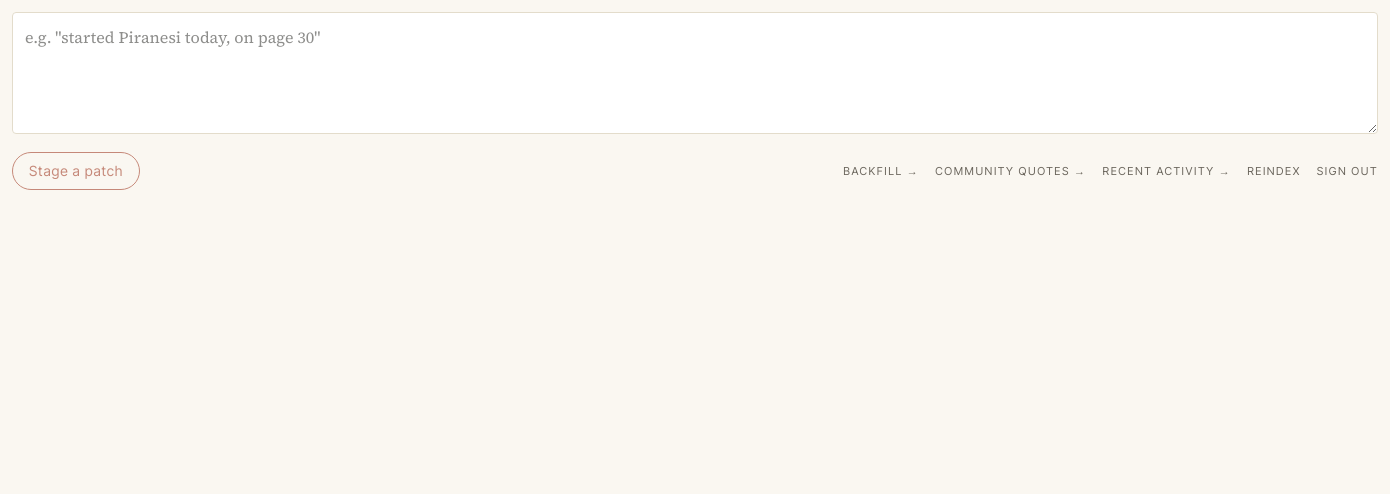
AdminConsole — 5-star unreviewed prompt › does not render the prompt when the pool returns no candidate
In the text box with placeholder "e.g. \"started Piranesi today, on page 30\"": {"x": 695, "y": 73} [12,12,1378,134], type "rate Subject Book 4"
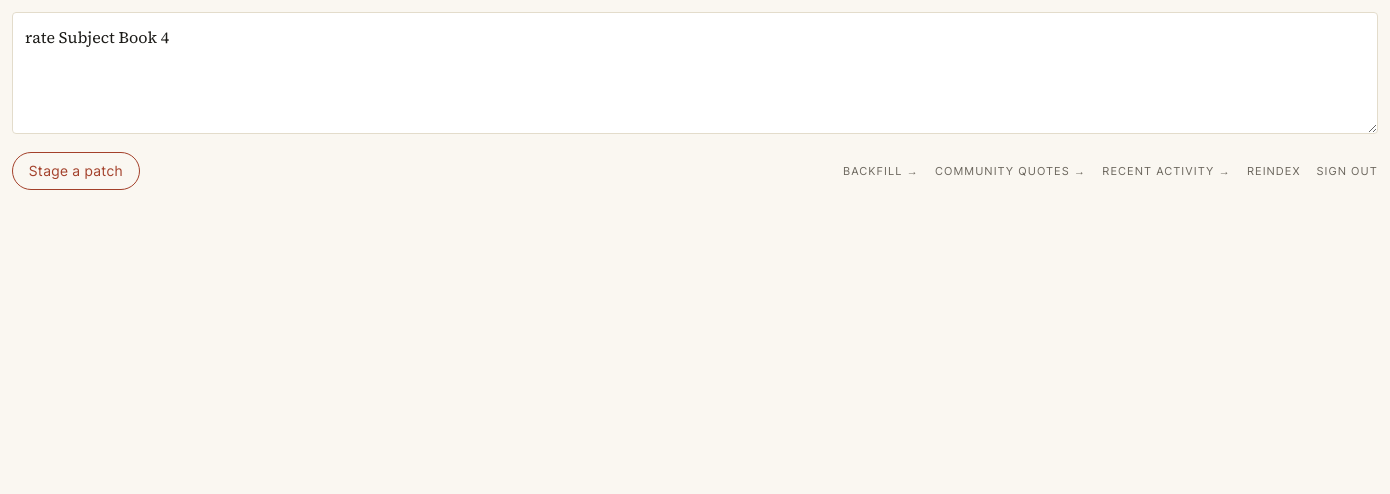
Click the button "Stage a patch": {"x": 76, "y": 171} [12,152,140,190]
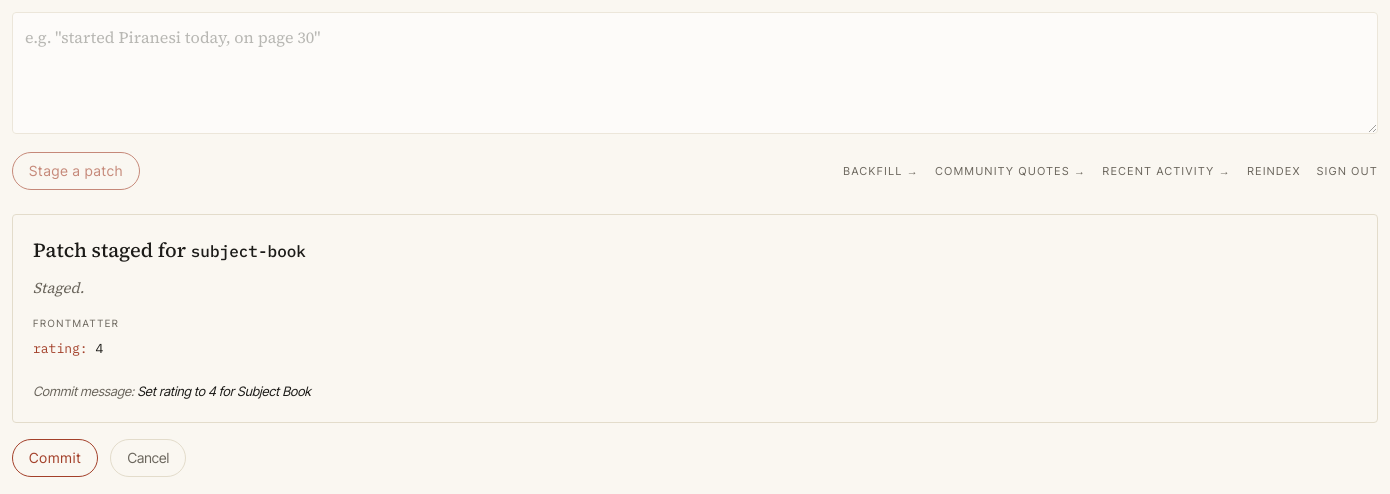
expect the button "Commit" is shown: met, box [12,438,98,476]
